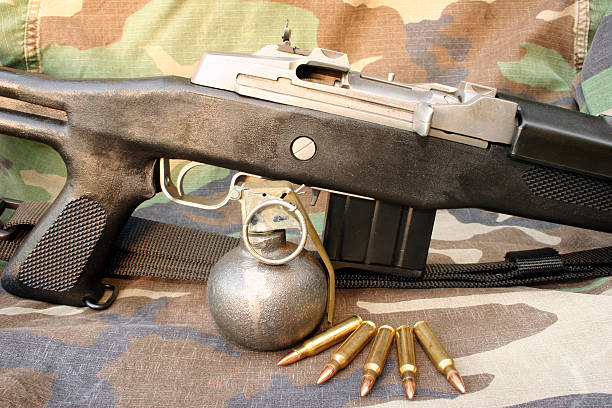e1: (207, 176, 337, 351)
